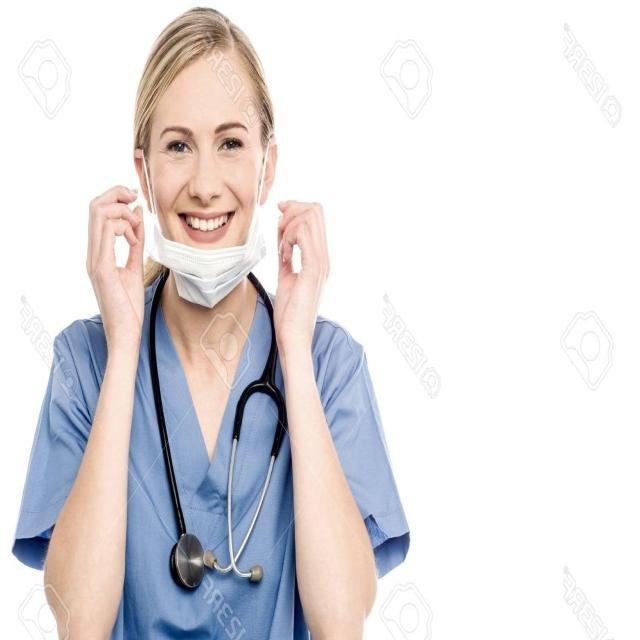hairnet: (132, 74, 270, 304)
